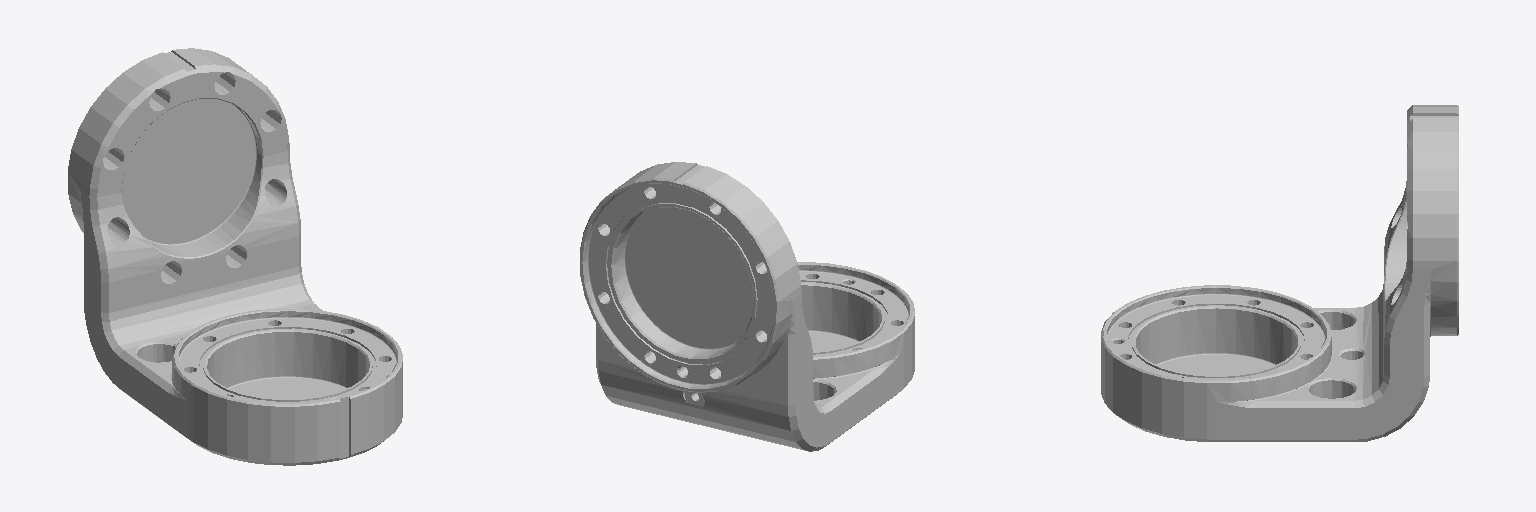
File: right_lower_arm_pitch_link.obj
3 views of the same model, side by side, from view 1: azimuth 30°, elevation 25°; view 2: azimuth 150°, elevation 25°; view 3: azimuth 270°, elevation 25° (orthographic).
Visible parts, largest first — view 1: right_lower_arm_pitch_link; view 2: right_lower_arm_pitch_link; view 3: right_lower_arm_pitch_link.
Part boxes in pixels (left/top/right/bottom): right_lower_arm_pitch_link: left=68, top=48, right=402, bottom=465; right_lower_arm_pitch_link: left=580, top=162, right=914, bottom=451; right_lower_arm_pitch_link: left=1101, top=105, right=1458, bottom=441.
Size of the model in its own units: 0.04 by 0.0535 by 0.062.